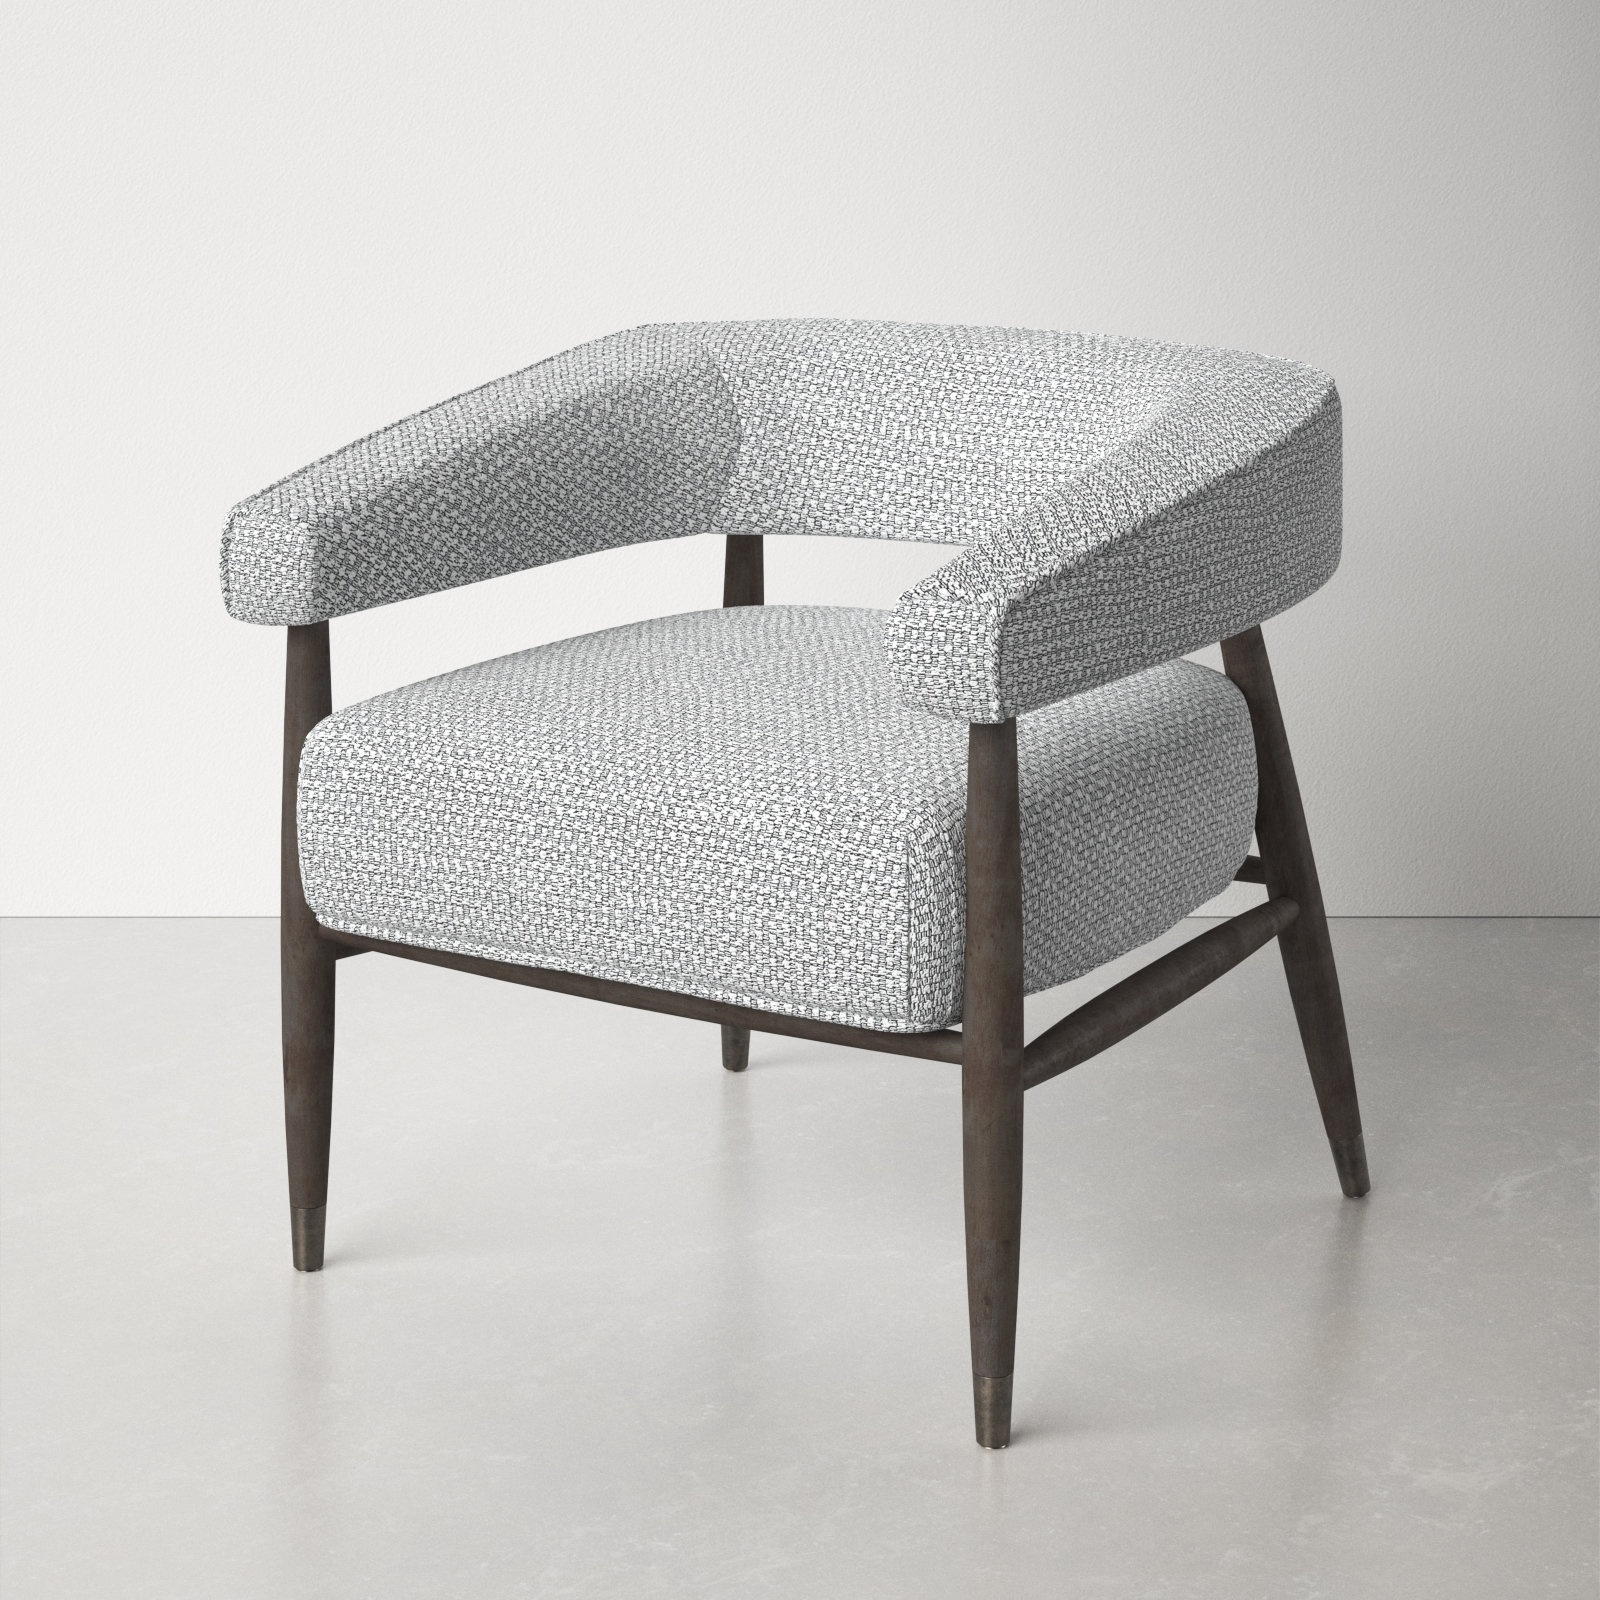obstacle: (223, 319, 1368, 1446)
